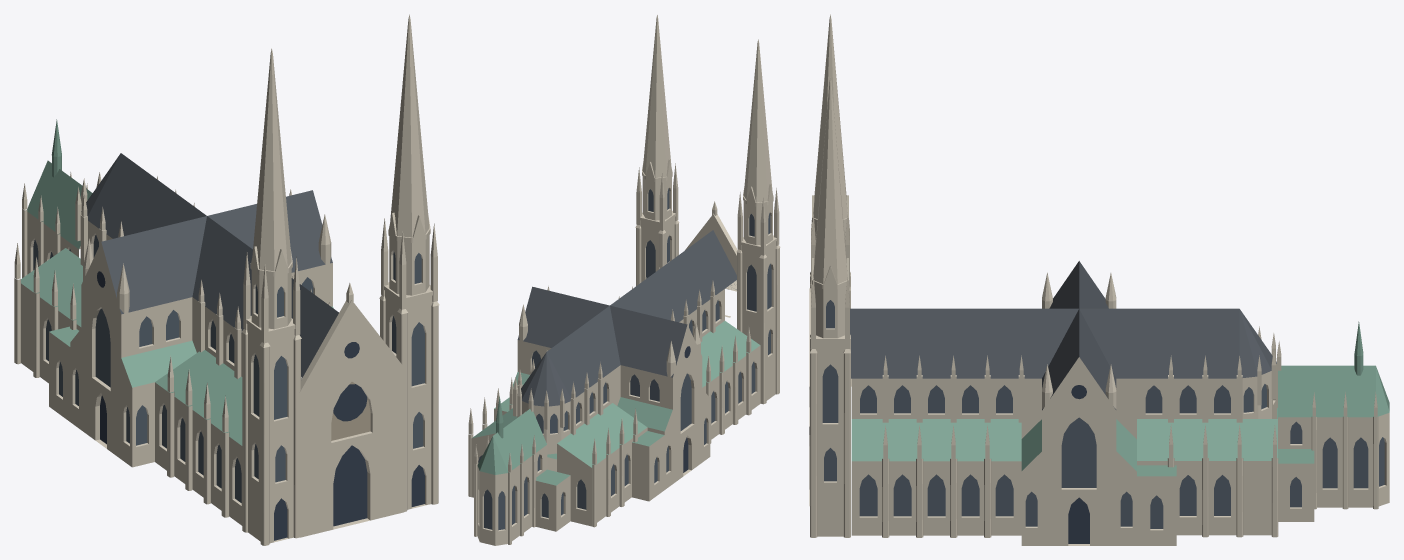
File: st-patricks-cathedral.glb
3 renders of one model, left to right at view 1: azimuth 30°, elevation 25°; view 2: azimuth 150°, elevation 25°; view 3: azimuth 270°, elevation 25°, orthographic. The views are drawn at different scales.
Visible parts, largest first — view 1: St. Patrick's Cathedral; view 2: St. Patrick's Cathedral; view 3: St. Patrick's Cathedral.
Part boxes in pixels (bbox=[...]): St. Patrick's Cathedral: bbox=[14, 14, 439, 545]; St. Patrick's Cathedral: bbox=[468, 15, 780, 545]; St. Patrick's Cathedral: bbox=[809, 14, 1389, 545].
Size of the model in its own units: 45.86 by 100 by 117.
